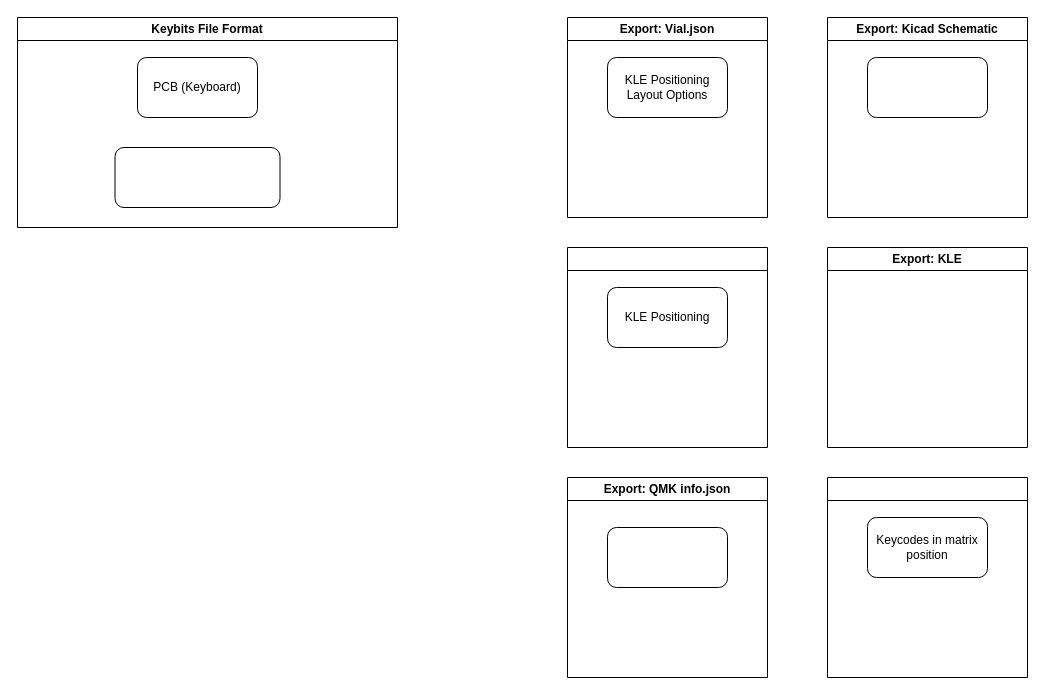
Image size: 1045x695. Some labels were removed from this diagram. The shapes that lost their labels are listed below. From the top down, each one's box as (x1, y1, x2, y2) in pixels, then its label:
(866, 56, 988, 118): Footprints
(114, 146, 280, 208): Physical Layout
(566, 246, 768, 448): Export: Via.json
(606, 526, 728, 588): Abs Positioning Rotations removed
(826, 476, 1028, 678): Export: QMK Keymap.c
